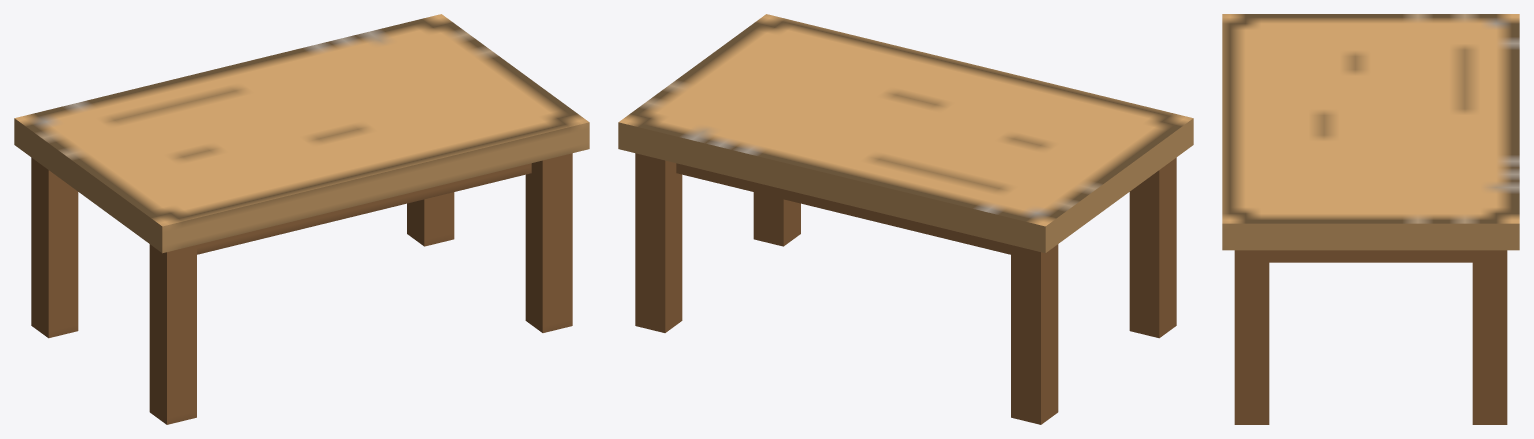
Rendered from CoffeeTable.obj.
3 views of the same model, side by side, from view 1: azimuth 30°, elevation 25°; view 2: azimuth 150°, elevation 25°; view 3: azimuth 270°, elevation 25° (orthographic).
Parts seen in each view (by area): view 1: CoffeeTable; view 2: CoffeeTable; view 3: CoffeeTable.
Part boxes in pixels (x1,y1,x2,y2): CoffeeTable: (14,14,589,424); CoffeeTable: (618,14,1193,424); CoffeeTable: (1222,14,1519,424).
Bounding box in the file's own units: 1 × 0.46 × 0.6.
Materials: 1 (1 with a texture image).
